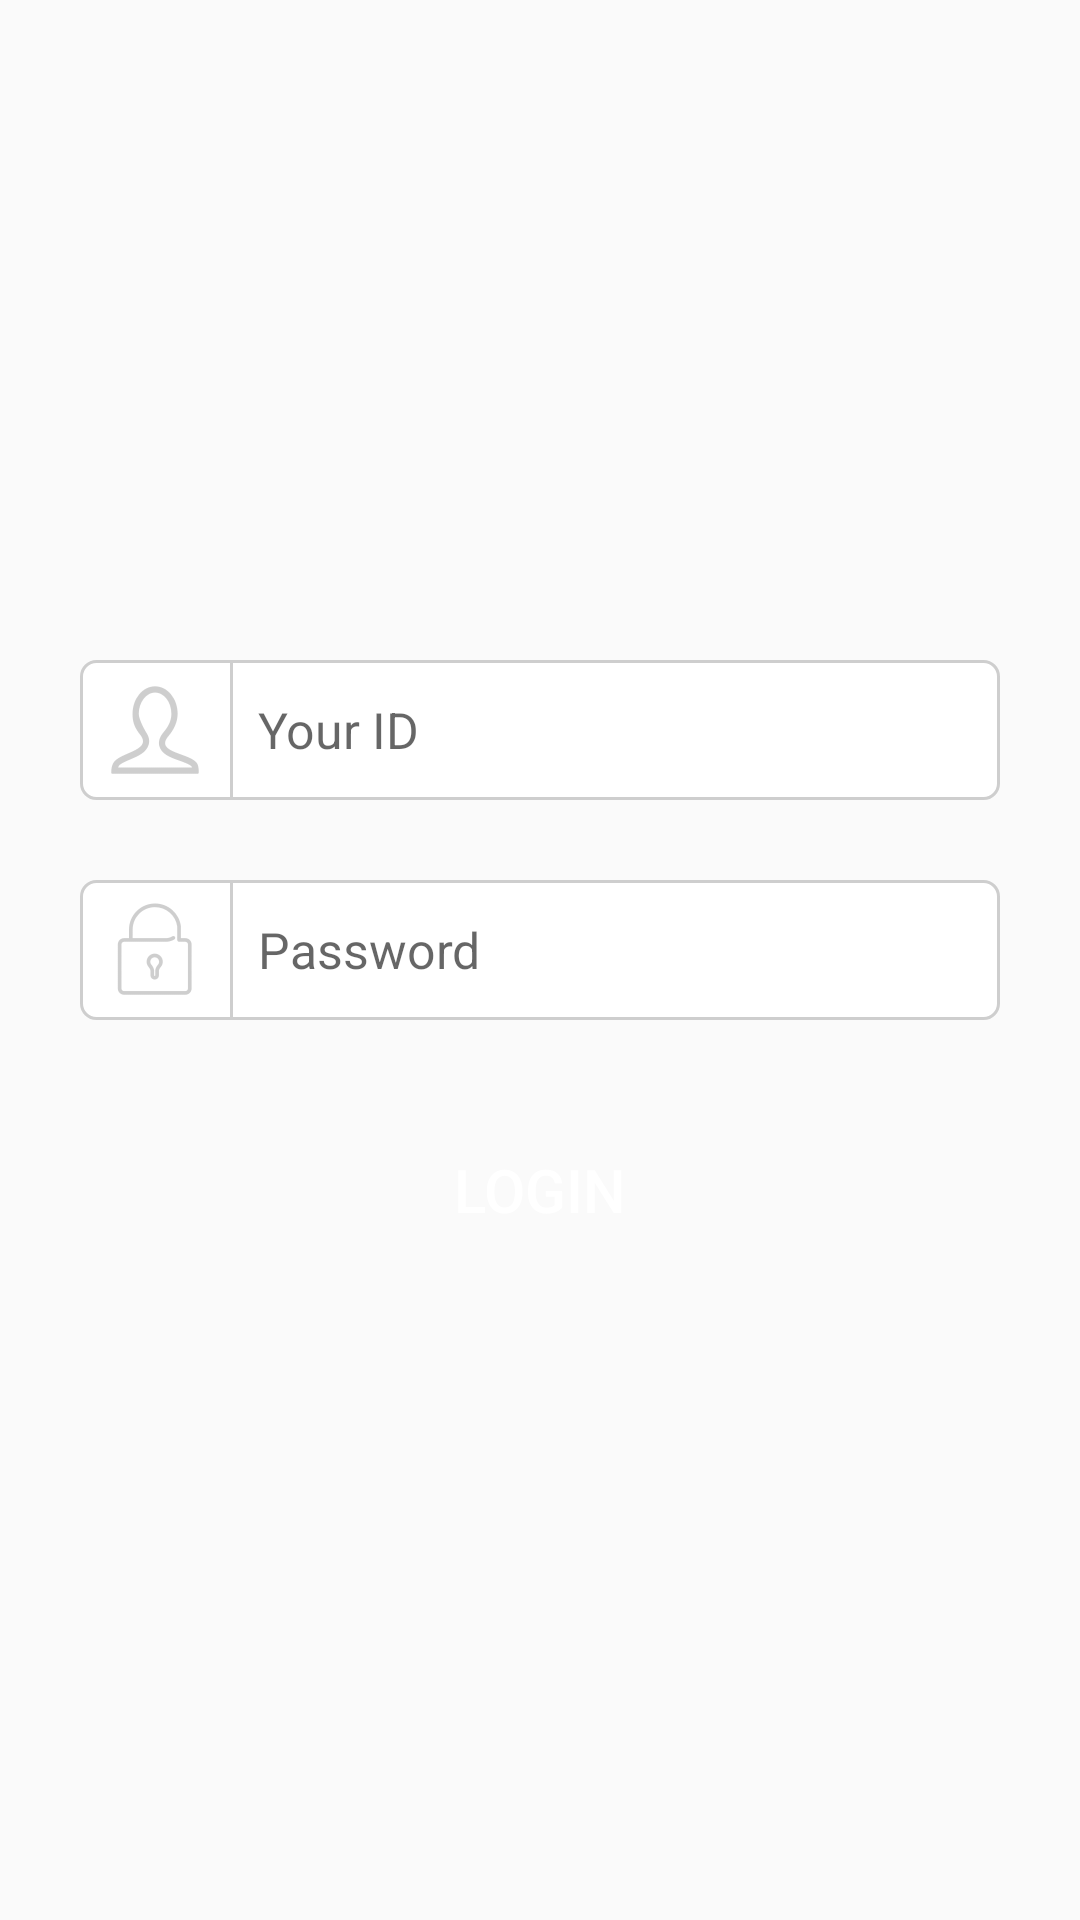

Point at icon controls on the screen. Image size 1080*1920, points as (x,y).
user: (155,730)
